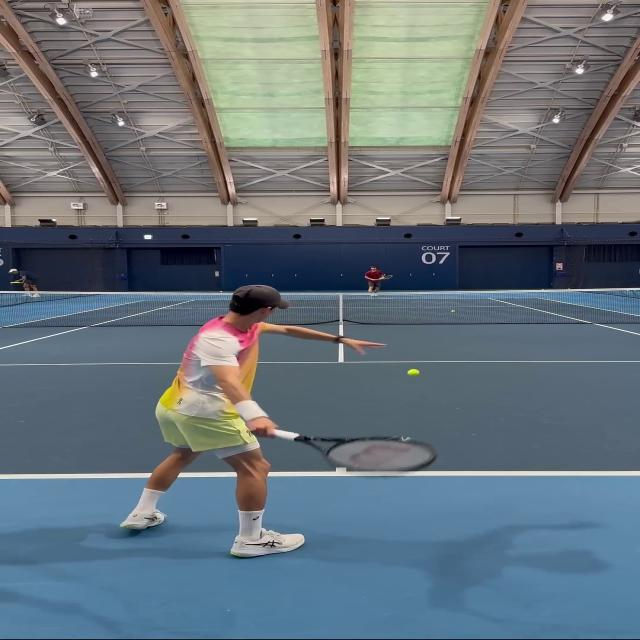tennis_ball: (409, 371, 418, 375)
